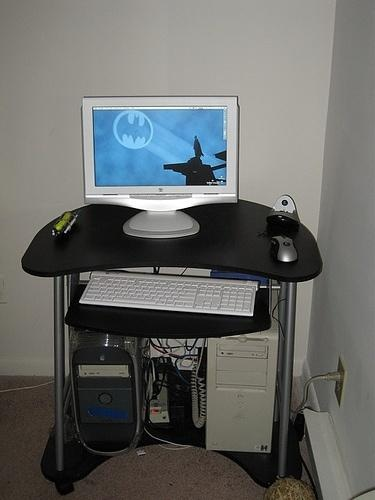tvmonitor: (82, 96, 242, 238)
